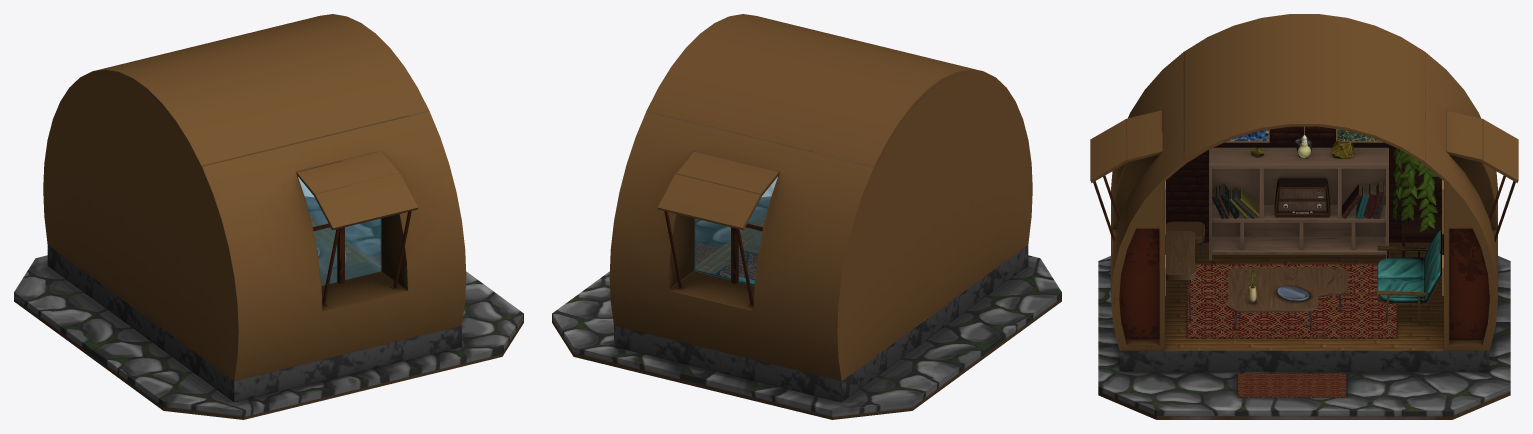
3 renders of one model, left to right at view 1: azimuth 30°, elevation 25°; view 2: azimuth 150°, elevation 25°; view 3: azimuth 270°, elevation 25°, orthographic.
Visible parts, largest first — view 1: Ground, Windows, Desk_02; view 2: Ground, Windows, Carpet; view 3: Ground, CupBoard, Carpet, Desk_02, Seat_Ground, Boook2, Ivy, Radio, Picture, Sheep, Raf_02, Windows.
Part boxes in pixels (x1=…): Ground: x1=14, y1=14, x2=523, y2=419; Windows: x1=298, y1=177, x2=411, y2=306; Desk_02: x1=315, y1=241, x2=380, y2=284; Ground: x1=552, y1=14, x2=1061, y2=419; Windows: x1=664, y1=177, x2=777, y2=306; Carpet: x1=695, y1=242, x2=757, y2=280; Ground: x1=1090, y1=14, x2=1518, y2=419; CupBoard: x1=1209, y1=147, x2=1388, y2=260; Carpet: x1=1187, y1=264, x2=1396, y2=397; Desk_02: x1=1165, y1=221, x2=1347, y2=328; Seat_Ground: x1=1377, y1=231, x2=1443, y2=324; Boook2: x1=1212, y1=181, x2=1385, y2=218; Ivy: x1=1392, y1=148, x2=1438, y2=231; Radio: x1=1274, y1=178, x2=1330, y2=217; Picture: x1=1165, y1=129, x2=1443, y2=295; Sheep: x1=1250, y1=136, x2=1353, y2=301; Raf_02: x1=1400, y1=165, x2=1441, y2=257; Windows: x1=1093, y1=154, x2=1515, y2=241.
Bounding box in the file's own units: 400 × 275 × 416.
15 materials, 15 textured.
